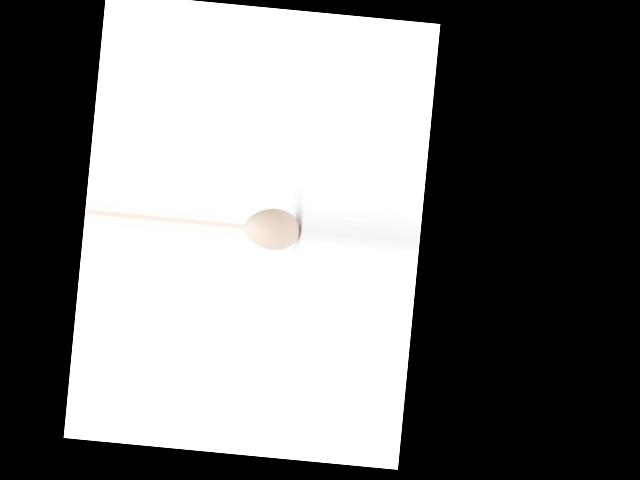egg: (243, 206, 302, 252)
